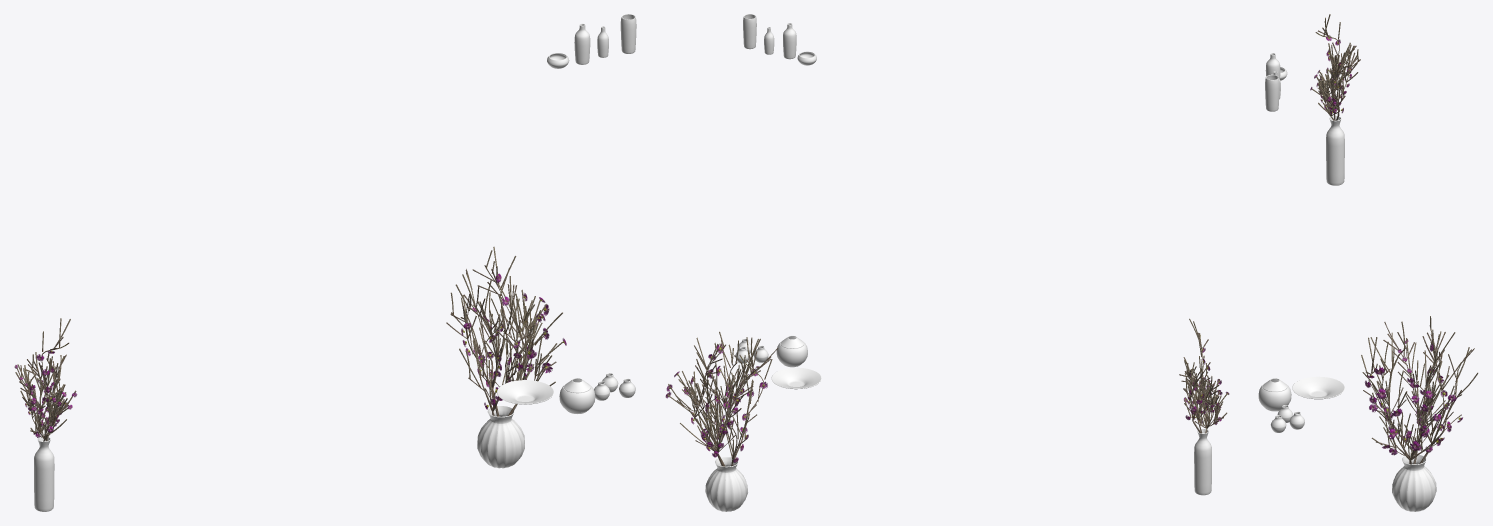
3 views of the same model, side by side, from view 1: azimuth 30°, elevation 25°; view 2: azimuth 150°, elevation 25°; view 3: azimuth 270°, elevation 25° (orthographic). The views are drawn at different scales.
Visible parts, largest first — view 1: Item_decoration.009, Item_decoration.010, Item_decoration.001, Item_decoration; view 2: Item_decoration.009, Item_decoration.010, Item_decoration.001, Item_decoration; view 3: Item_decoration.009, Item_decoration.010, Item_decoration.001, Item_decoration, Item_decoration.003.
Boxes of the visible parts, box(x1,y1,x2,y2) form: Item_decoration.009: box(446, 246, 566, 468); Item_decoration.010: box(14, 318, 77, 511); Item_decoration.001: box(497, 380, 553, 404); Item_decoration: box(559, 378, 595, 413); Item_decoration.009: box(665, 331, 778, 511); Item_decoration.010: box(1179, 318, 1229, 495); Item_decoration.001: box(771, 367, 821, 389); Item_decoration: box(776, 335, 807, 367); Item_decoration.009: box(1361, 316, 1478, 511); Item_decoration.010: box(1310, 14, 1360, 185); Item_decoration.001: box(1292, 376, 1344, 399); Item_decoration: box(1258, 378, 1291, 411); Item_decoration.003: box(1265, 74, 1279, 111).
Size of the model in its own units: 3.47 by 2.81 by 1.23.
5 materials, 2 textured.
